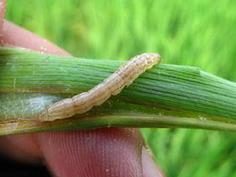pest: (39, 52, 162, 121)
